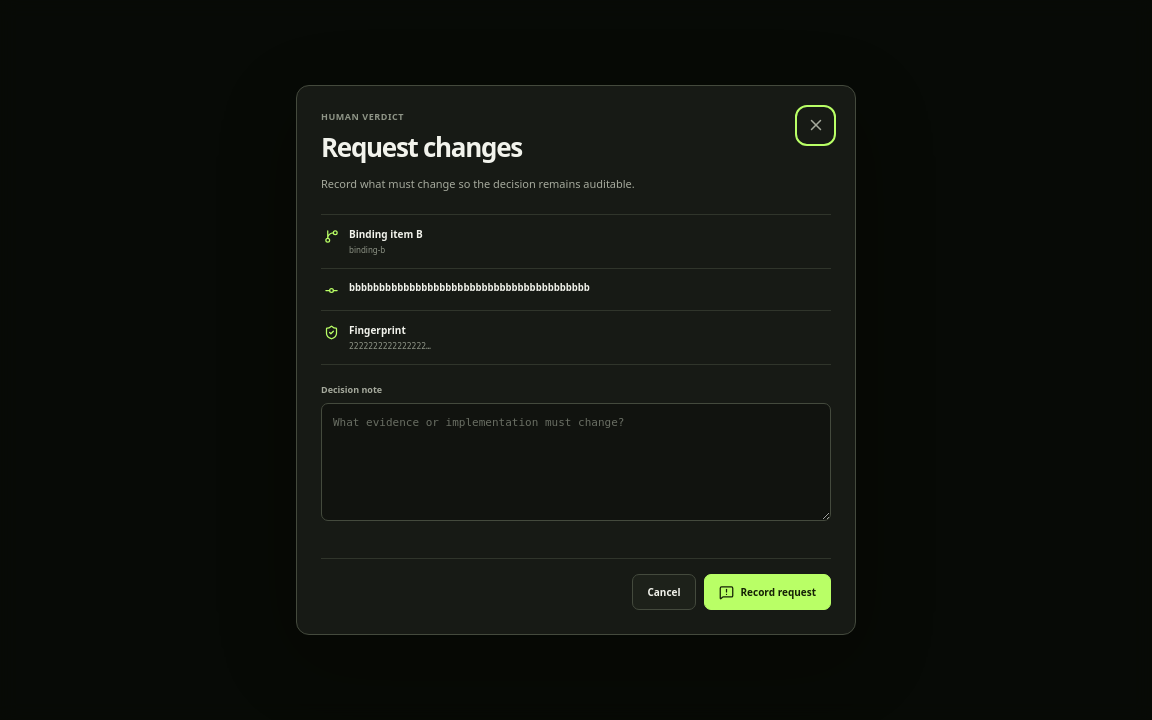
Test: verdict dialog › shows the reason when the server refuses a verdict on a changed state
Type "Add a regression test." into the text box labelled "Decision note" at coordinates (576, 462), box [321,403,831,521]
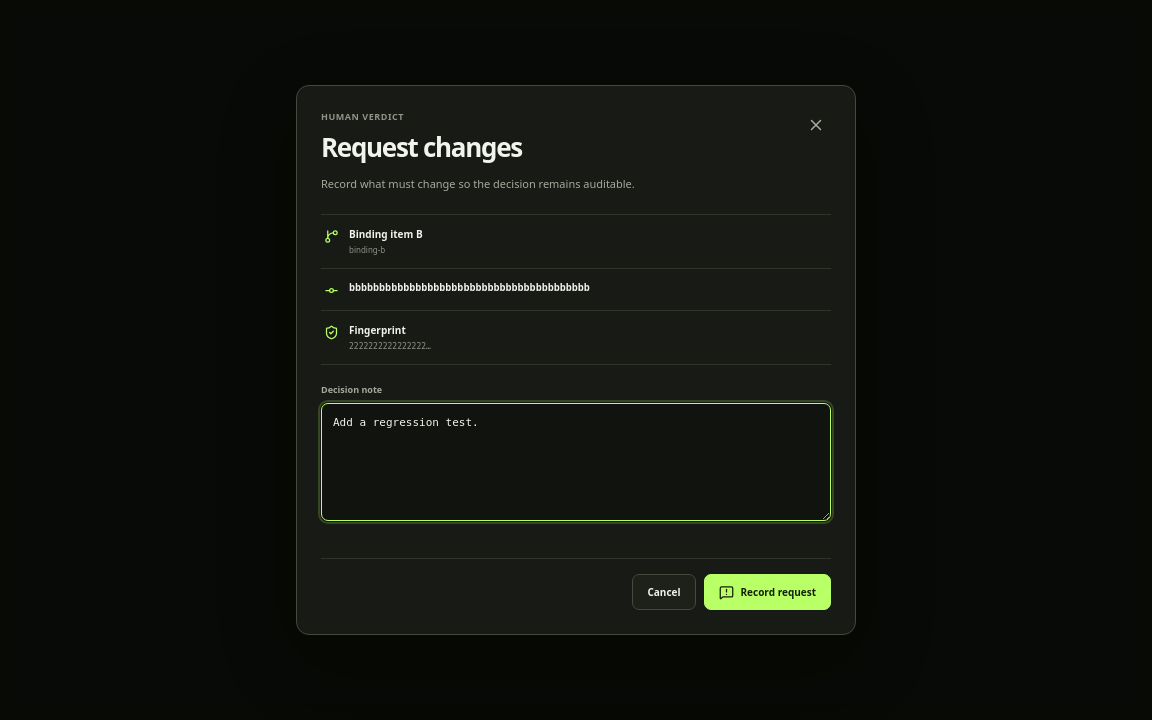
Click the button "Record request" at coordinates (767, 592), box [704,574,831,610]
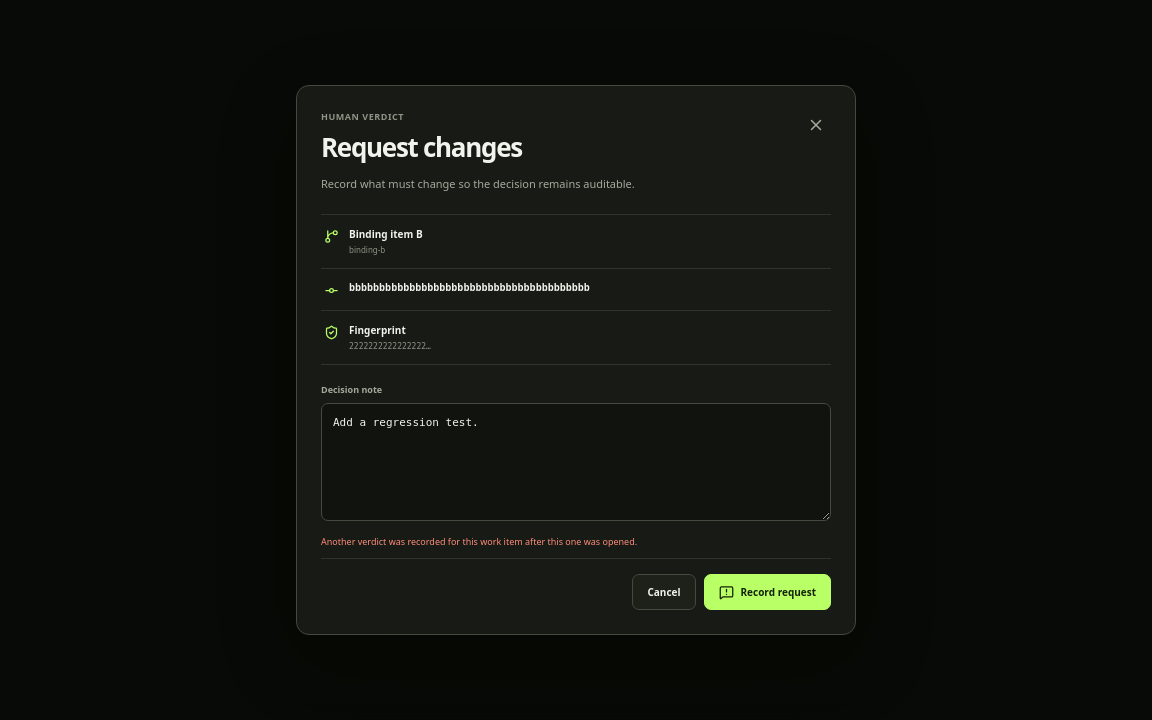
Expected: the text "Another verdict was recorded" is shown, [321,535,637,548]
